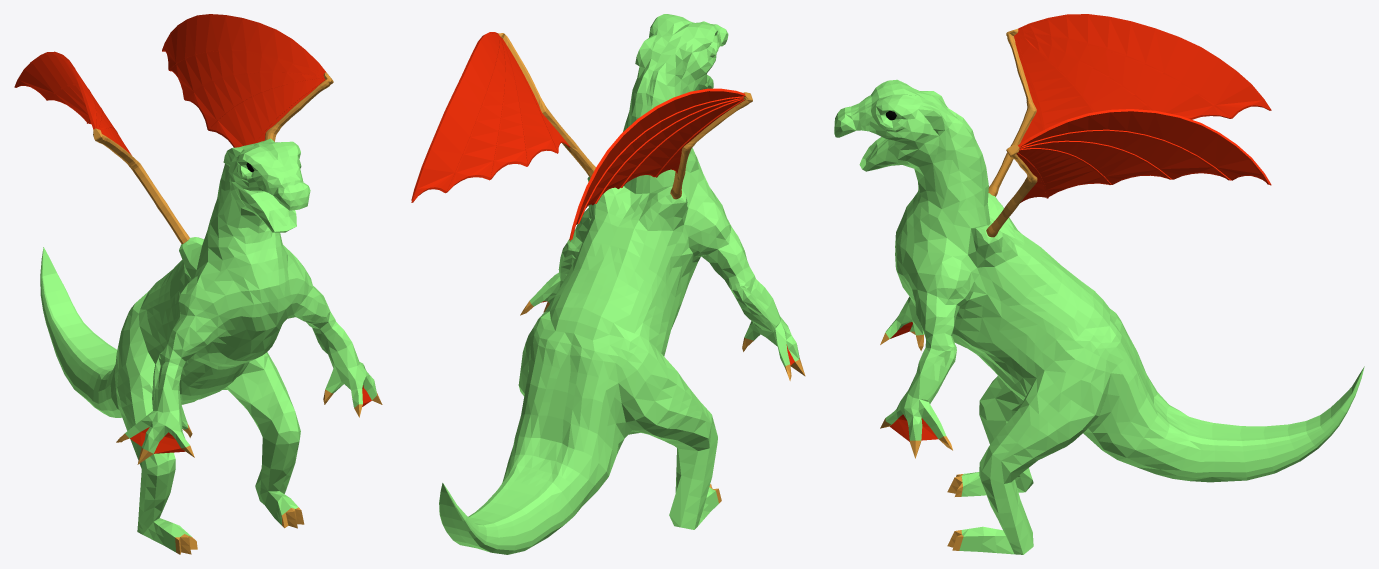
File: dragon.obj
The picture shows the model from 3 angles, left to right: view 1: azimuth 30°, elevation 25°; view 2: azimuth 150°, elevation 25°; view 3: azimuth 270°, elevation 25°; orthographic projection. The views are drawn at different scales.
Visible parts, largest first — view 1: body, wing, bone, fclaws, webbing, claws; view 2: body, wing, bone; view 3: body, wing, bone, webbing.
Part boxes in pixels (left/top/right/bottom): body: left=40, top=138, right=376, bottom=552; wing: left=14, top=14, right=326, bottom=155; bone: left=93, top=72, right=333, bottom=244; fclaws: left=175, top=507, right=304, bottom=554; webbing: left=130, top=385, right=371, bottom=453; claws: left=116, top=389, right=382, bottom=464; body: left=439, top=14, right=799, bottom=554; wing: left=411, top=32, right=745, bottom=240; bone: left=498, top=33, right=752, bottom=199; body: left=834, top=79, right=1364, bottom=554; wing: left=1014, top=14, right=1271, bottom=202; bone: left=986, top=28, right=1037, bottom=237; webbing: left=890, top=322, right=938, bottom=441.
Size of the model in its own units: 8.9 by 14.81 by 15.6.
